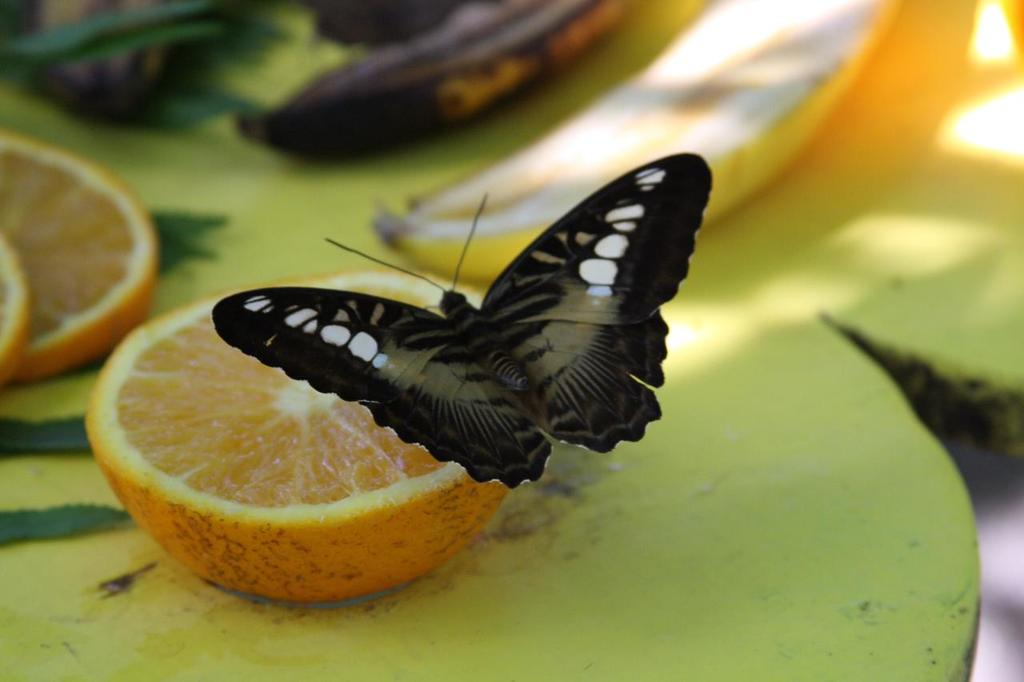Butterfly: (198, 120, 725, 520)
